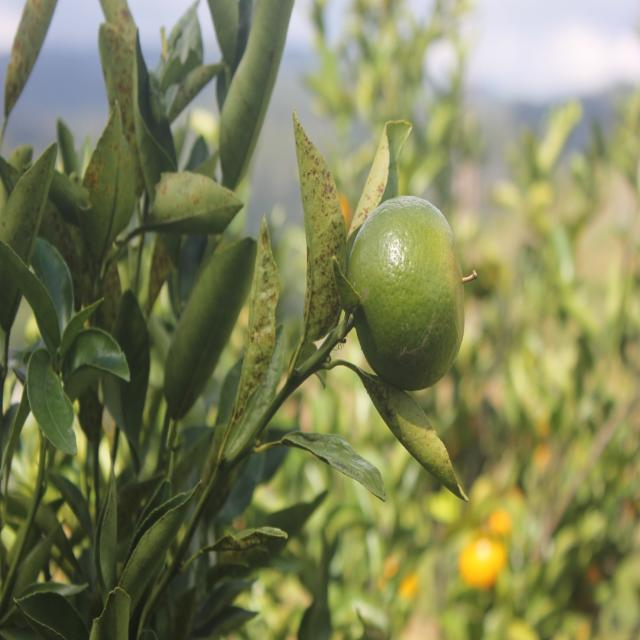melanose: (220, 213, 291, 438), (292, 115, 348, 358), (95, 0, 148, 186), (3, 0, 60, 115), (149, 173, 236, 236), (346, 112, 392, 227)
